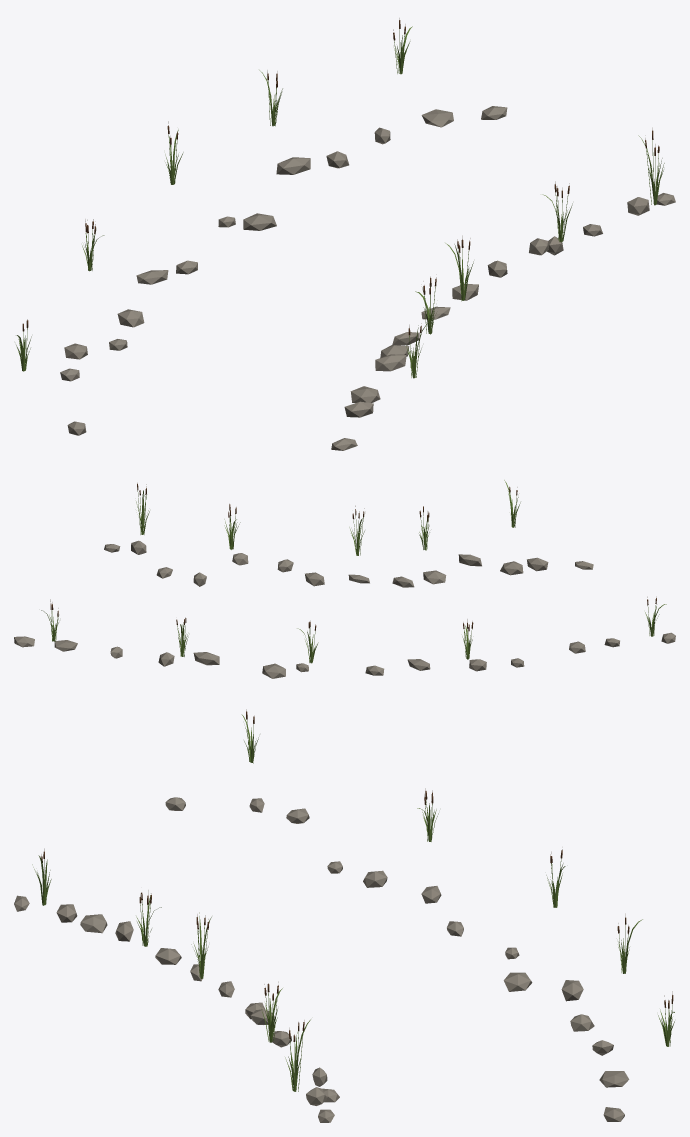
Rendered from river_bend_center.glb.
The picture shows the model from 3 angles, top to bottom: view 1: azimuth 30°, elevation 25°; view 2: azimuth 150°, elevation 25°; view 3: azimuth 270°, elevation 25°; orthographic projection. The views are drawn at different scales.
Parts seen in each view (by area): view 1: river_bend_center_lod0; view 2: river_bend_center_lod0; view 3: river_bend_center_lod0.
Boxes of the visible parts, x1=… form: river_bend_center_lod0: x1=16, y1=18, x2=675, y2=450; river_bend_center_lod0: x1=14, y1=480, x2=675, y2=678; river_bend_center_lod0: x1=14, y1=709, x2=674, y2=1122.
Size of what is drawn, in the model's own units: 22.45 by 3.47 by 18.28.
